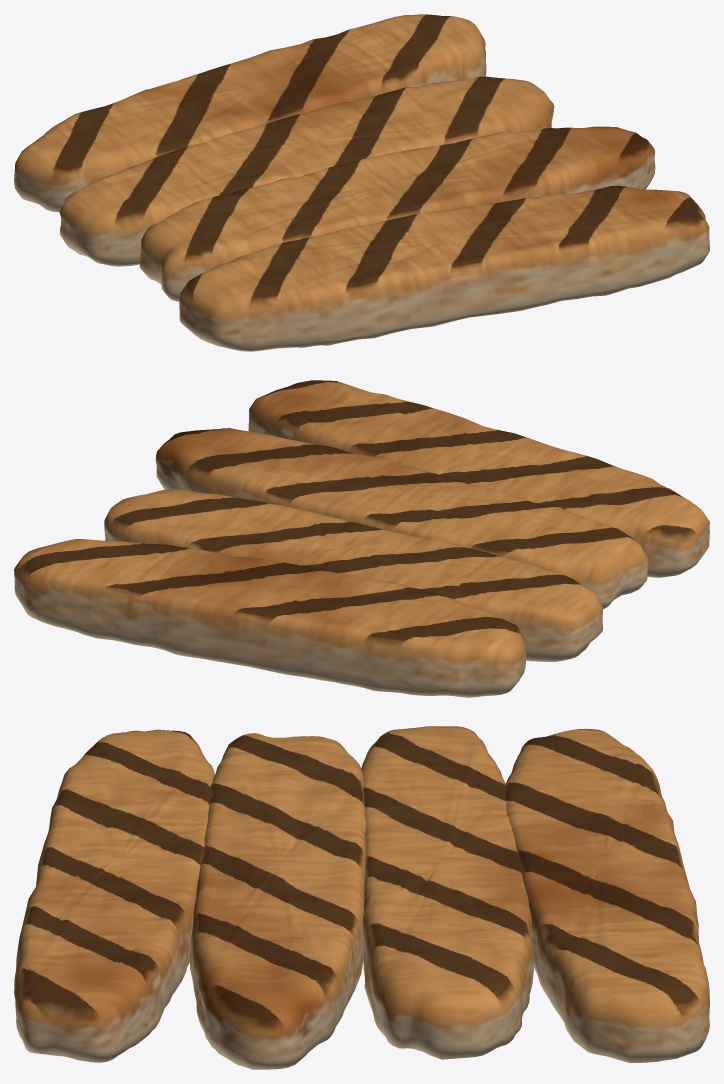
File: filling_chicken.glb
3 renders of one model, top to bottom at view 1: azimuth 30°, elevation 25°; view 2: azimuth 150°, elevation 25°; view 3: azimuth 270°, elevation 25°, orthographic. The views are drawn at different scales.
Parts seen in each view (by area): view 1: EX_Filling_chicken; view 2: EX_Filling_chicken; view 3: EX_Filling_chicken.
Boxes of the visible parts, x1,y1,x2,y2 form: EX_Filling_chicken: (14, 14, 709, 351); EX_Filling_chicken: (14, 380, 709, 697); EX_Filling_chicken: (14, 726, 709, 1069).
Bounding box in the file's own units: 0.0929 × 0.0114 × 0.0901.
Materials: 1 (1 with a texture image).
